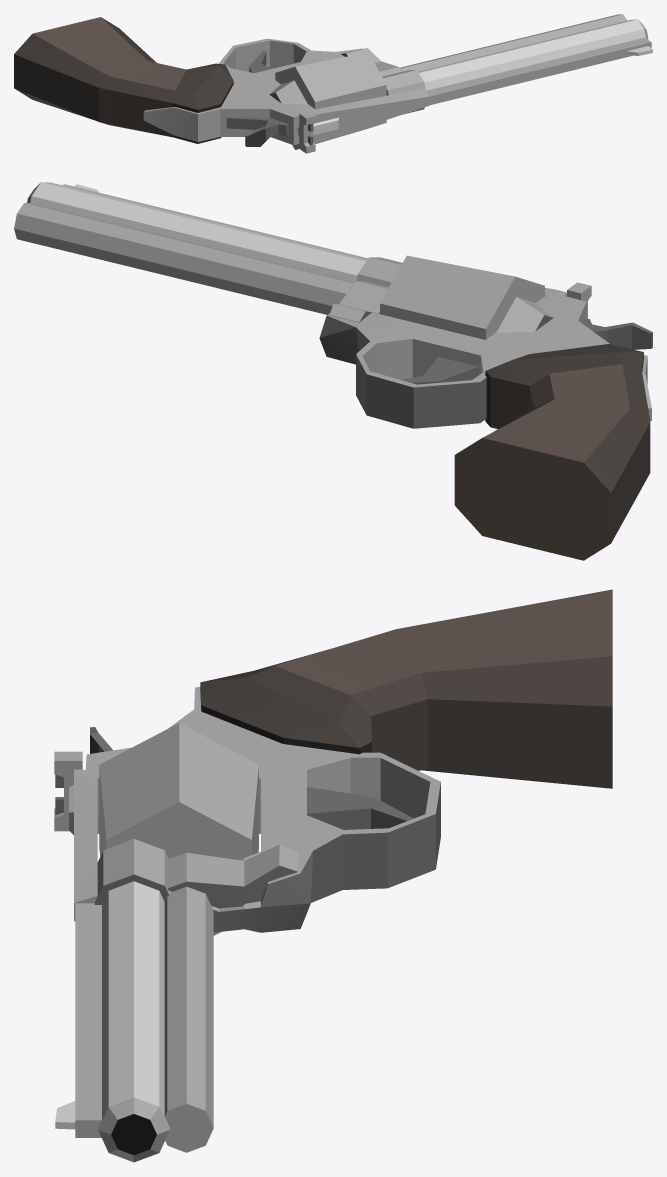
Rendered from Python_3D.glb.
The picture shows the model from 3 angles, top to bottom: view 1: azimuth 30°, elevation 25°; view 2: azimuth 150°, elevation 25°; view 3: azimuth 270°, elevation 25°; orthographic projection. The views are drawn at different scales.
Visible parts, largest first — view 1: PythonLowPoly; view 2: PythonLowPoly; view 3: PythonLowPoly.
Part boxes in pixels (x1,y1,x2,y2): PythonLowPoly: (14,14,652,153); PythonLowPoly: (14,182,652,560); PythonLowPoly: (54,589,612,1162).
Size of the model in its own units: 0.4702 by 0.0737 by 0.2231.
1 material, 1 textured.
